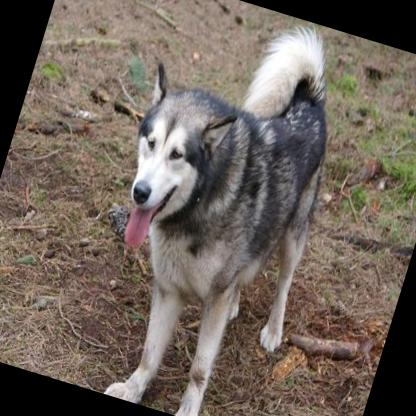malamute: (59, 0, 372, 416)
